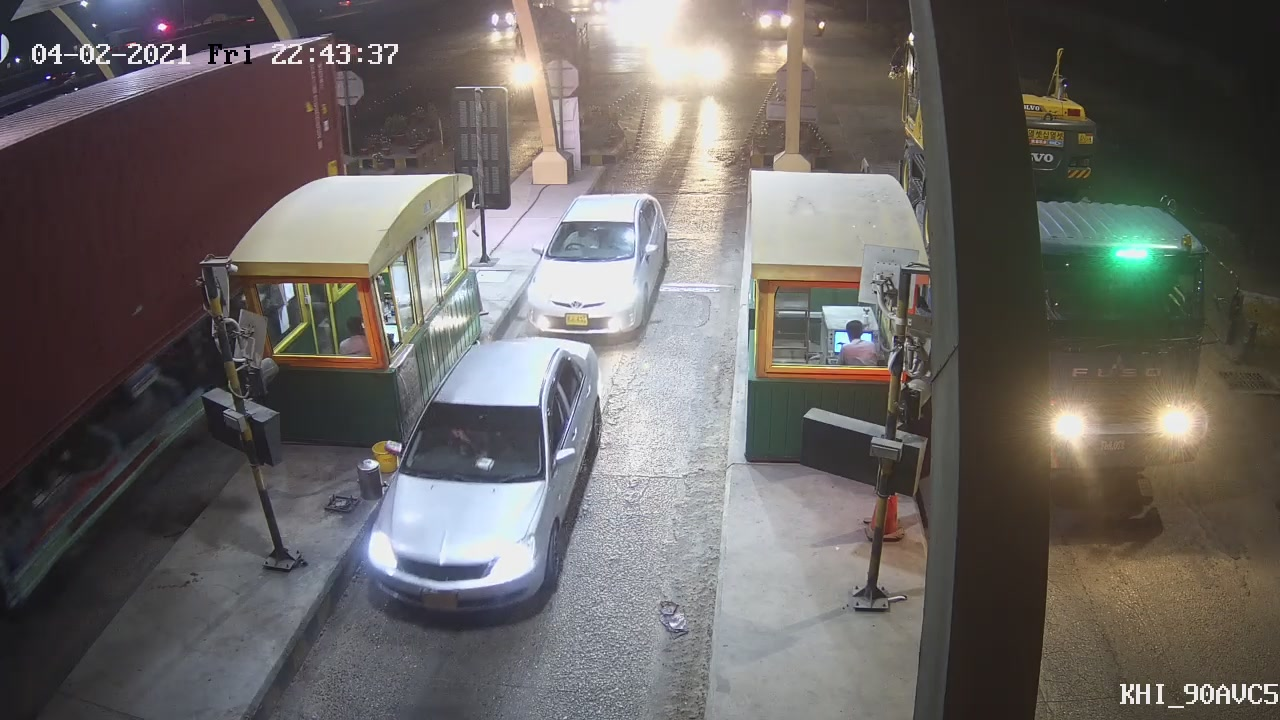F1: (361, 336, 602, 616), (525, 188, 671, 335)
